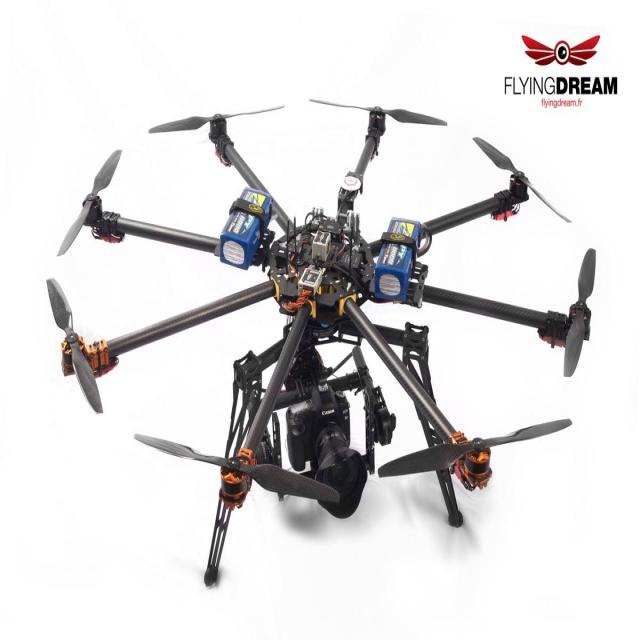drone: (9, 82, 621, 601)
